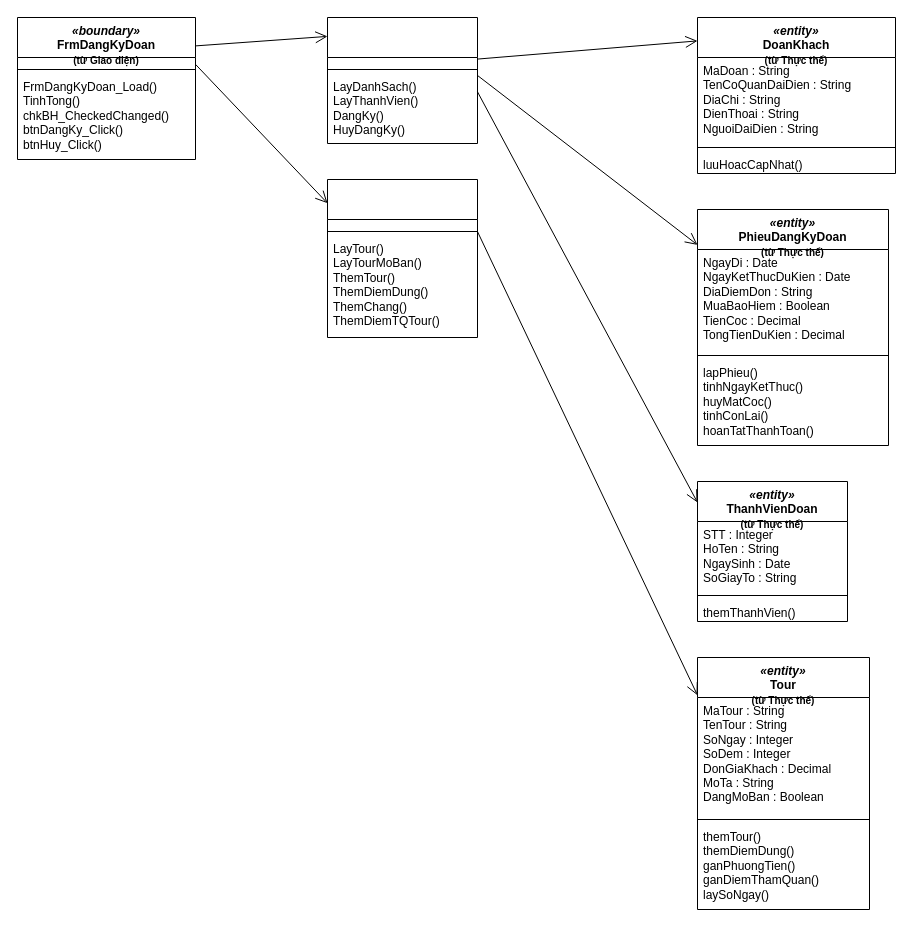
This 913x930 diagram has some shape labels left out. Here are the shapes that lost their labels. From the top down, the box of each, then its label:
(326, 16, 478, 144): «control» DangKyDoanService (từ Điều khiển)
(326, 178, 478, 338): «control» TourService (từ Điều khiển)
